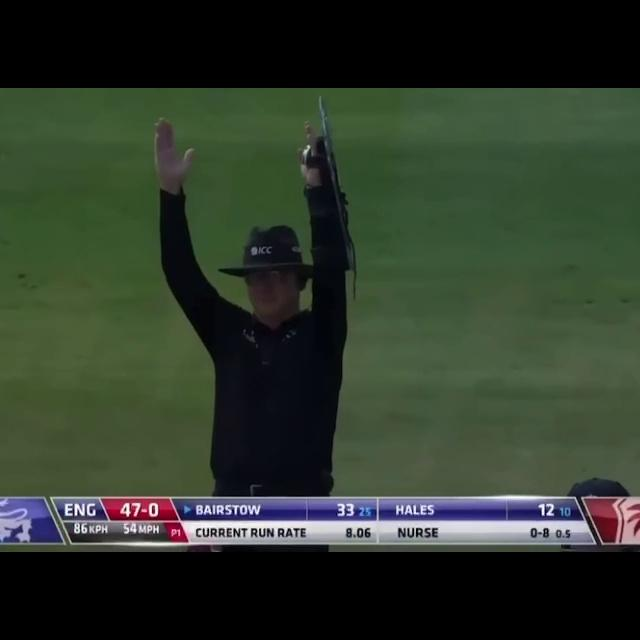umpire: (136, 98, 404, 501)
